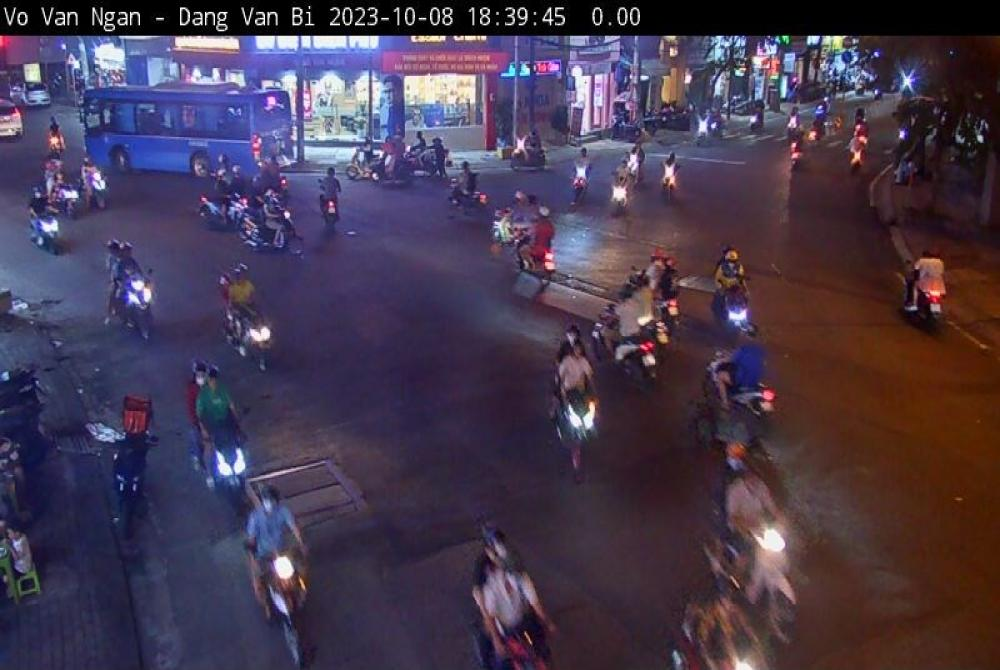bus: (80, 83, 296, 183)
